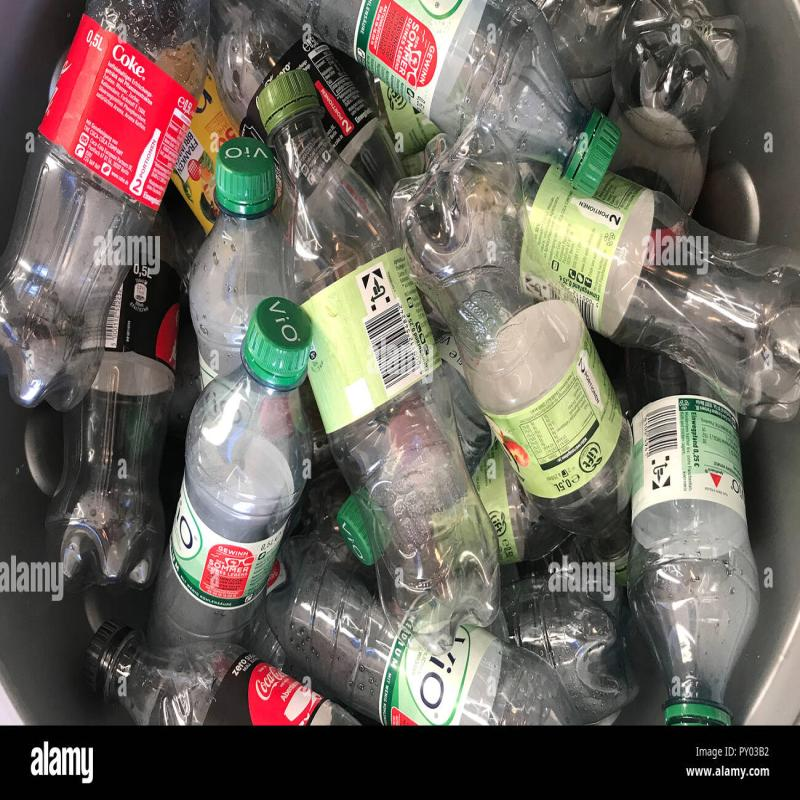botella: (265, 68, 506, 616), (385, 124, 642, 571), (0, 0, 218, 417), (509, 159, 800, 420), (273, 0, 624, 185), (273, 530, 601, 722), (53, 177, 195, 588), (157, 300, 310, 677), (620, 344, 767, 730), (594, 0, 796, 197), (86, 620, 374, 730), (179, 143, 307, 389), (477, 551, 650, 731)
